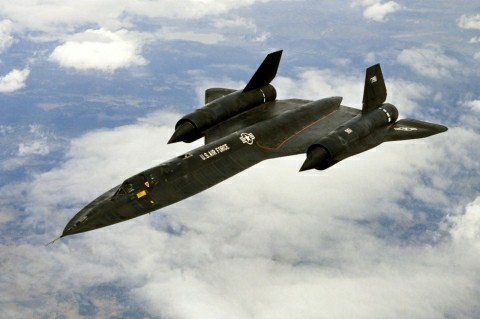maybay_khongnguoilai: (50, 50, 449, 225)
